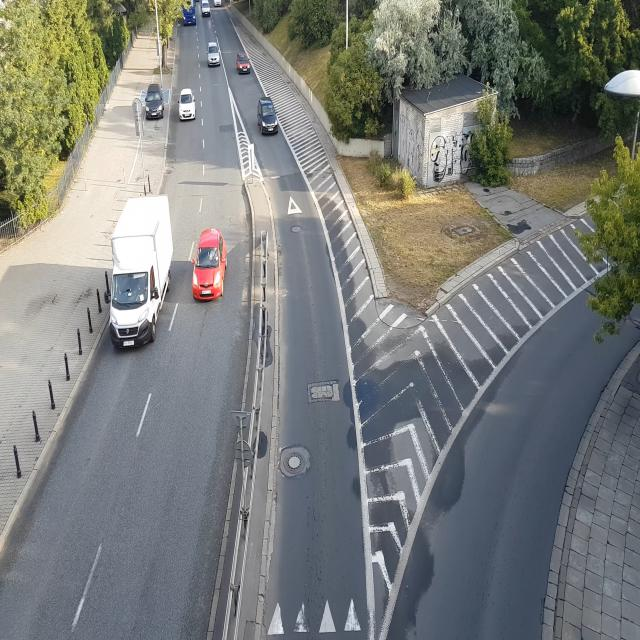car: (105, 192, 177, 358), (190, 222, 230, 306), (255, 97, 282, 141), (143, 84, 169, 124), (176, 86, 198, 123), (203, 40, 224, 72), (236, 52, 250, 77), (200, 0, 214, 21), (212, 0, 224, 5)
truck: (180, 0, 198, 28)
